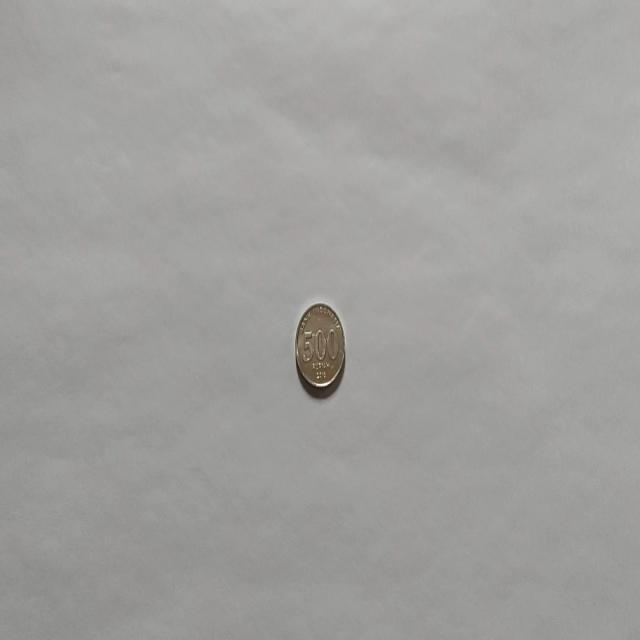lima ratus rupiah: (294, 300, 346, 393)
